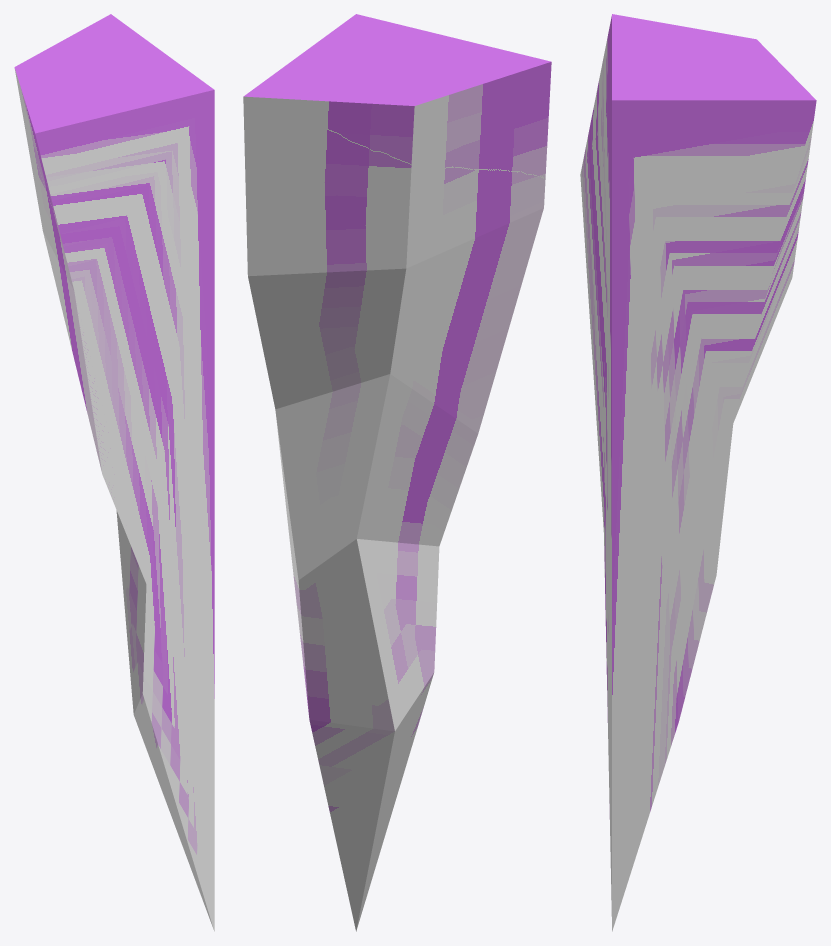
File: IcicleBreak.gltf
3 views of the same model, side by side, from view 1: azimuth 30°, elevation 25°; view 2: azimuth 150°, elevation 25°; view 3: azimuth 270°, elevation 25° (orthographic). The views are drawn at different scales.
Parts seen in each view (by area): view 1: Icicle0; view 2: Icicle0; view 3: Icicle0.
Part boxes in pixels (x1,y1,x2,y2): Icicle0: (14,14,214,931); Icicle0: (243,14,551,931); Icicle0: (580,14,816,931).
Bounding box in the file's own units: 1.07 × 4.49 × 1.16.
Materials: 1 (1 with a texture image).
